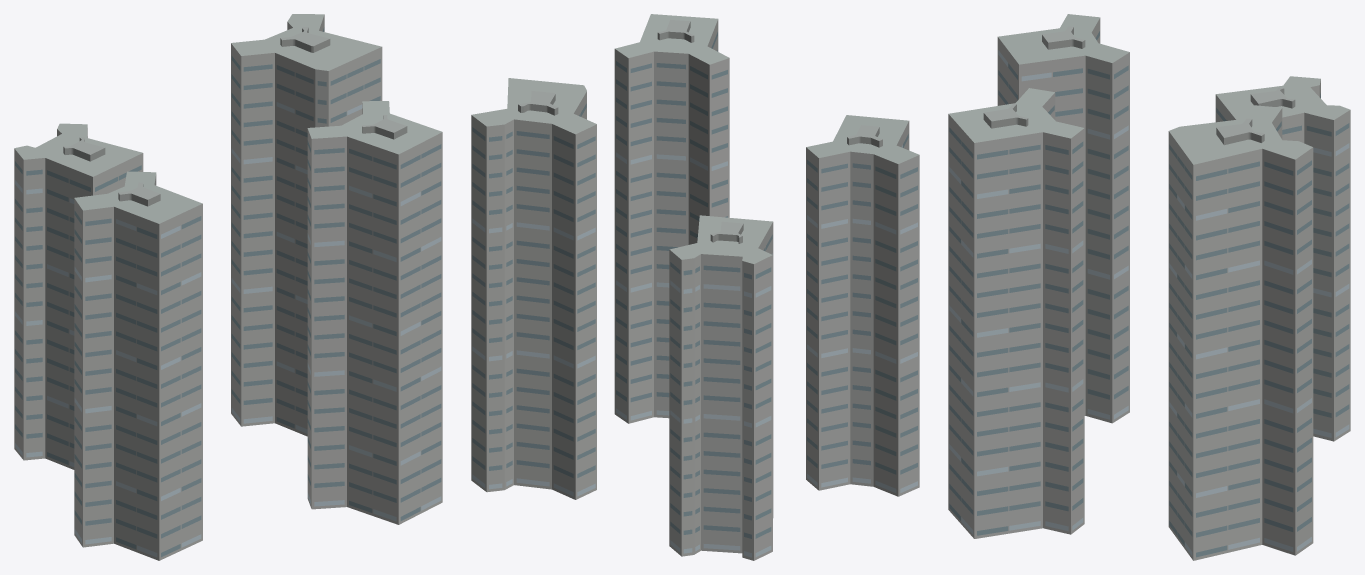
The model's file is apt-a15805111.glb.
The picture shows the model from 3 angles, left to right: view 1: azimuth 30°, elevation 25°; view 2: azimuth 150°, elevation 25°; view 3: azimuth 270°, elevation 25°; orthographic projection. The views are drawn at different scales.
Visible parts, largest first — view 1: apt-a15805111; view 2: apt-a15805111; view 3: apt-a15805111.
Part boxes in pixels (x1,y1,x2,y2): apt-a15805111: [14, 14, 442, 560]; apt-a15805111: [471, 14, 919, 560]; apt-a15805111: [948, 14, 1350, 560].
Size of the model in its own units: 134 by 135 by 122.
